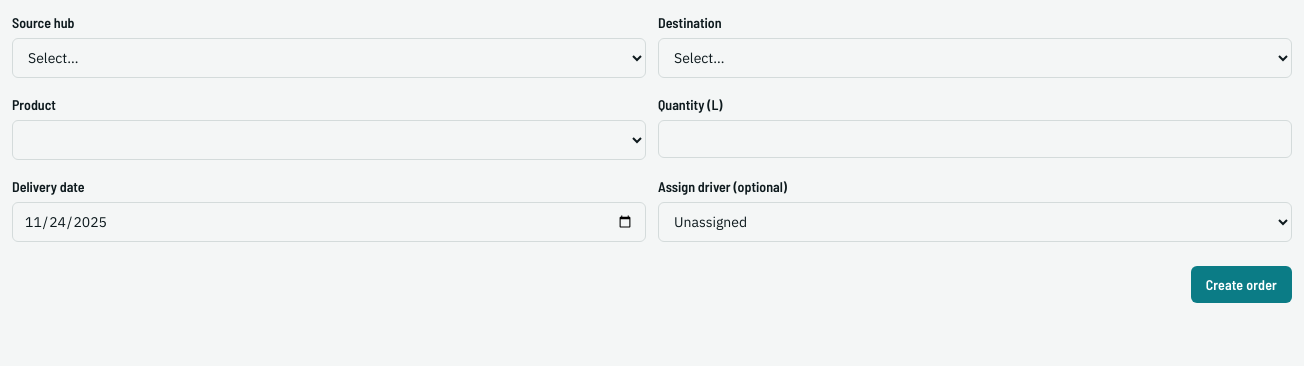
Test: OrderForm › shows a product error when no products are available
The image size is (1304, 366).
Click the button "Create order".
click(1241, 284)  # box [1191,266,1292,303]
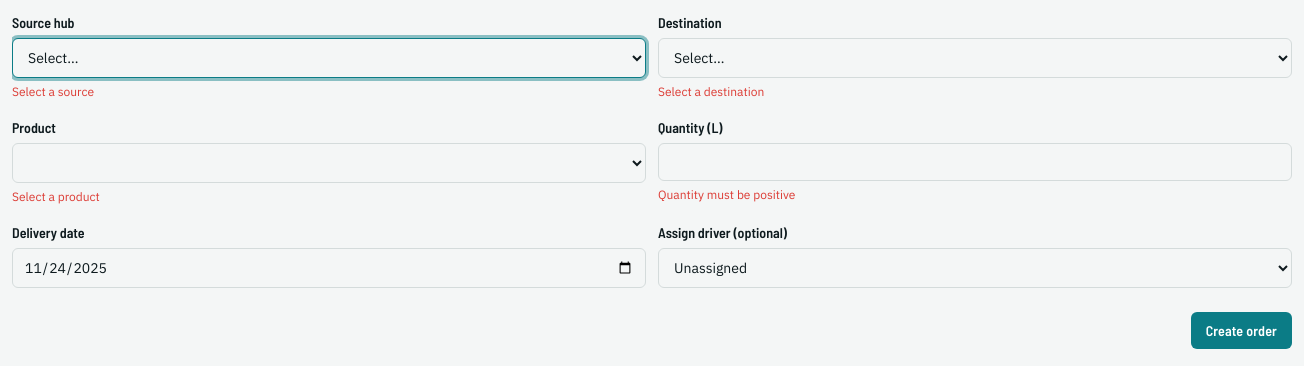
Expected: the text "Select a product" is shown, [12,189,100,204]
